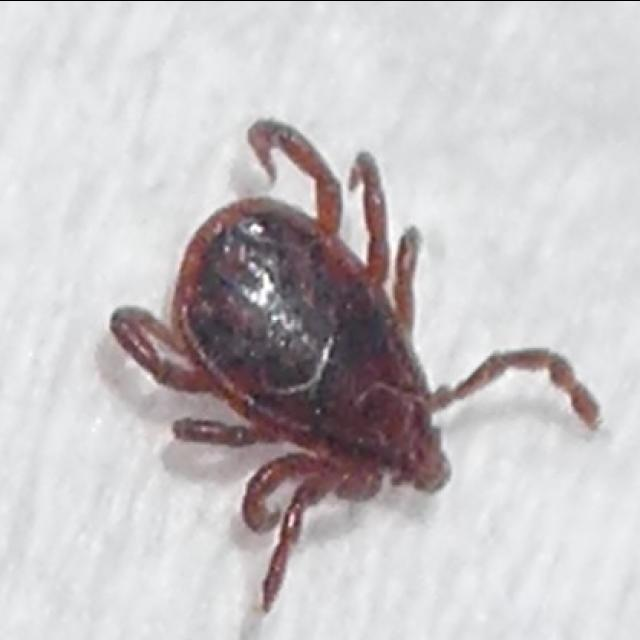Rhipicephalus Sanguineus-M: (107, 118, 600, 613)
